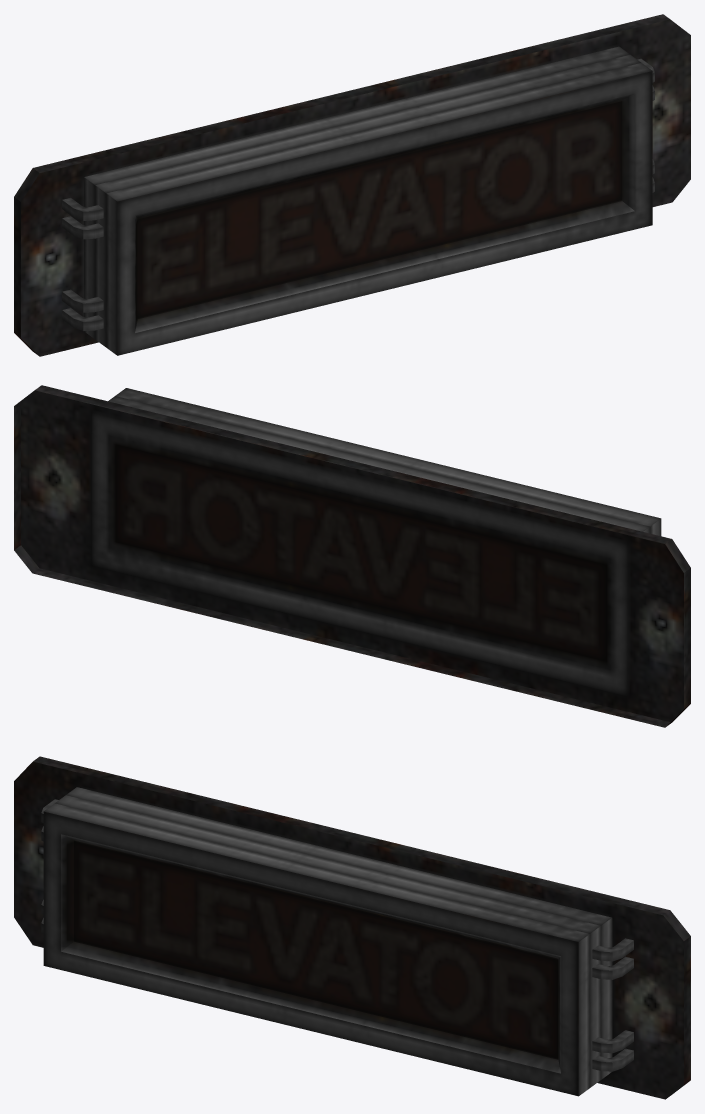
File: elevator_sign_1.obj
3 views of the same model, one above another, from view 1: azimuth 30°, elevation 25°; view 2: azimuth 150°, elevation 25°; view 3: azimuth 330°, elevation 25° (orthographic).
Visible parts, largest first — view 1: elevator_sign_1; view 2: elevator_sign_1; view 3: elevator_sign_1.
Boxes of the visible parts, <box> form: elevator_sign_1: <box>14,14,690,356</box>; elevator_sign_1: <box>14,385,690,727</box>; elevator_sign_1: <box>14,756,690,1099</box>.
Size of the model in its own units: 0.7635 by 0.2 by 0.08.
